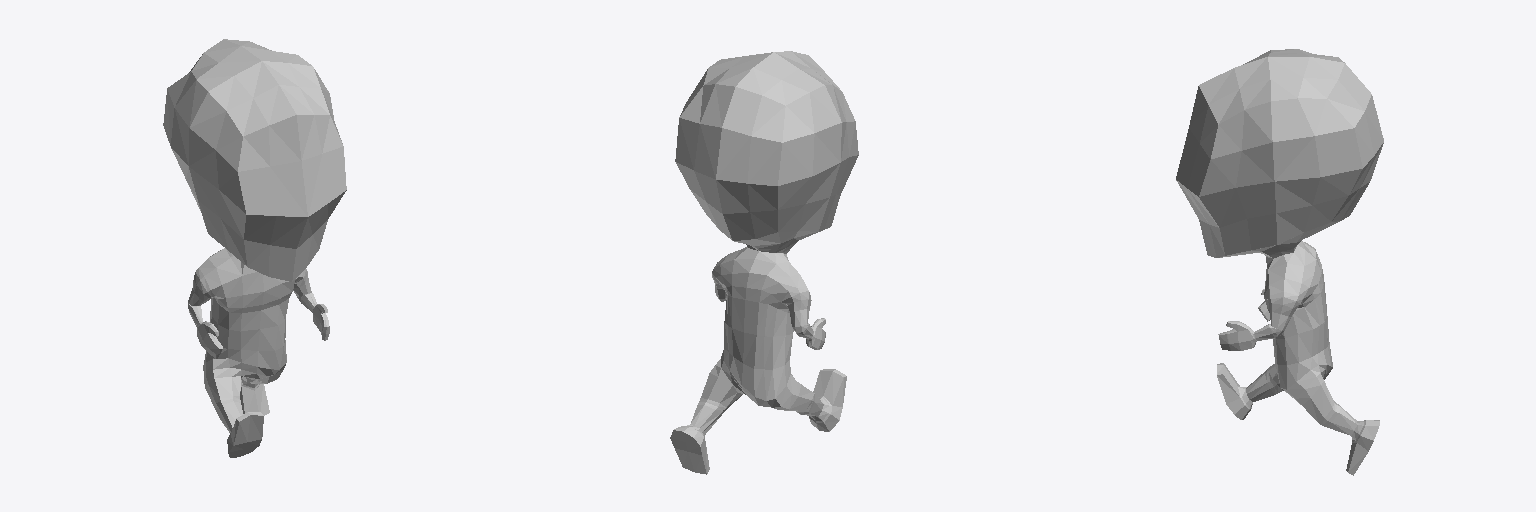
File: char_000005.obj
The picture shows the model from 3 angles: view 1: azimuth 30°, elevation 25°; view 2: azimuth 150°, elevation 25°; view 3: azimuth 270°, elevation 25°; orthographic projection.
Visible parts, largest first — view 1: lp_guy_mesh_Cube; view 2: lp_guy_mesh_Cube; view 3: lp_guy_mesh_Cube.
Part boxes in pixels (x1,y1,x2,y2): lp_guy_mesh_Cube: (163, 39, 346, 457); lp_guy_mesh_Cube: (670, 51, 858, 474); lp_guy_mesh_Cube: (1176, 49, 1383, 475).
Size of the model in its own units: 0.7344 by 1.99 by 0.9444.